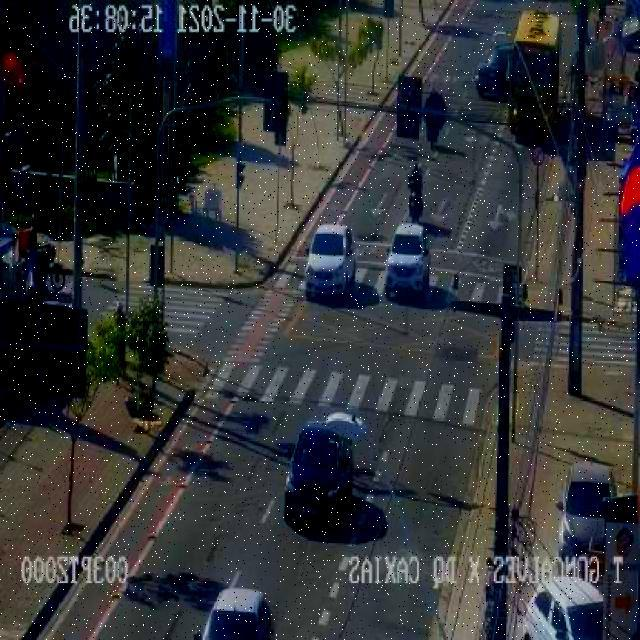car: (285, 424, 388, 542), (525, 578, 604, 640), (560, 461, 611, 556), (305, 225, 356, 300), (385, 222, 429, 298)
motorcyclist: (408, 164, 424, 222)
traffic-lights: (149, 244, 165, 287)
